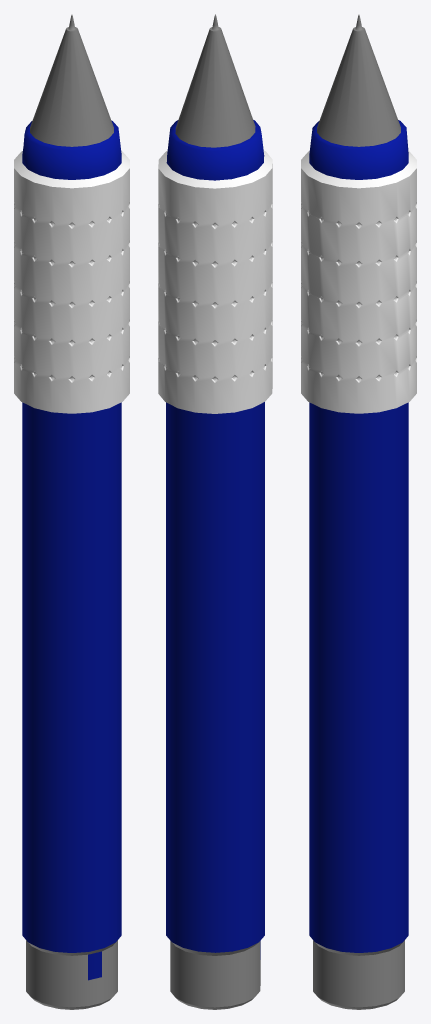
The model's file is pen_four.FBX.
The picture shows the model from 3 angles, left to right: view 1: azimuth 90°, elevation 25°; view 2: azimuth 150°, elevation 25°; view 3: azimuth 270°, elevation 25°; orthographic projection.
Parts seen in each view (by area): view 1: ChamferCyl001; view 2: ChamferCyl001; view 3: ChamferCyl001.
Part boxes in pixels (x1=…): ChamferCyl001: x1=14, y1=14, x2=129, y2=1009; ChamferCyl001: x1=158, y1=14, x2=272, y2=1009; ChamferCyl001: x1=301, y1=14, x2=416, y2=1009.
Size of the model in its own units: 82.25 by 779 by 82.58.
